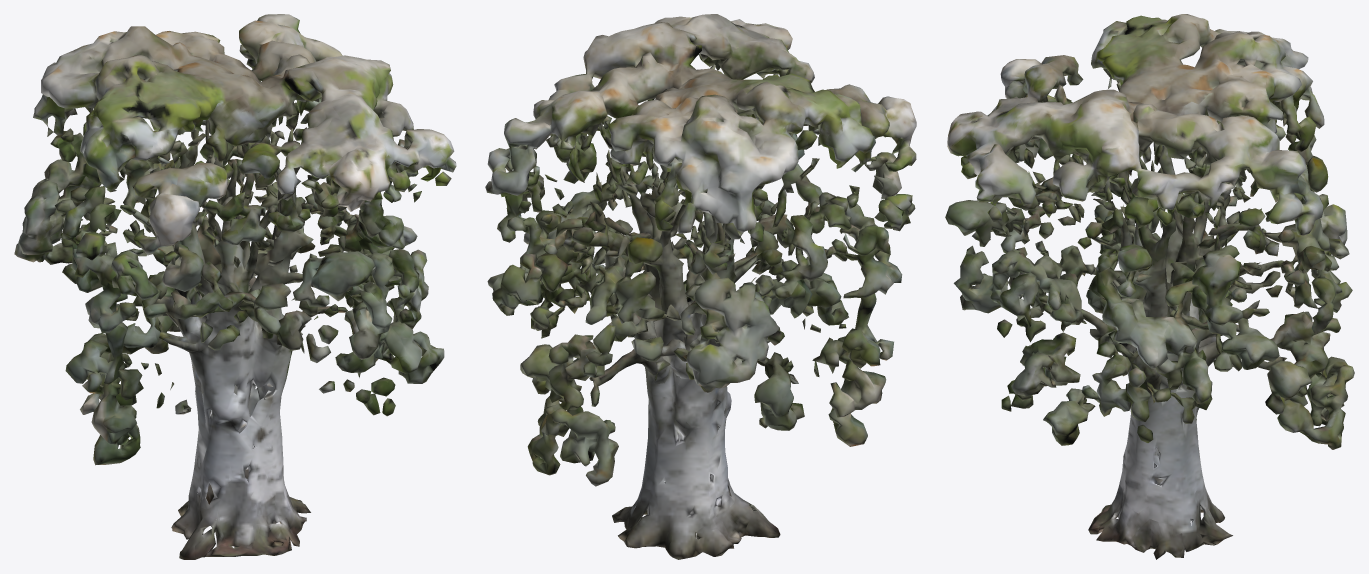
File: AI_Sycamore01.fbx
3 views of the same model, side by side, from view 1: azimuth 30°, elevation 25°; view 2: azimuth 150°, elevation 25°; view 3: azimuth 270°, elevation 25° (orthographic). The views are drawn at different scales.
Parts seen in each view (by area): view 1: Mesh1.0; view 2: Mesh1.0; view 3: Mesh1.0.
Boxes of the visible parts, left/top/right/bottom form: Mesh1.0: left=14, top=14, right=456, bottom=559; Mesh1.0: left=485, top=14, right=916, bottom=559; Mesh1.0: left=945, top=14, right=1354, bottom=559.
Size of the model in its own units: 158 by 201 by 159.
1 material, 1 textured.
